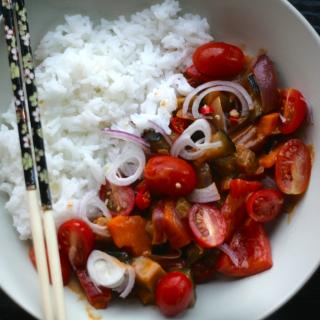Tomato: (26, 43, 316, 320), (149, 154, 194, 202)
